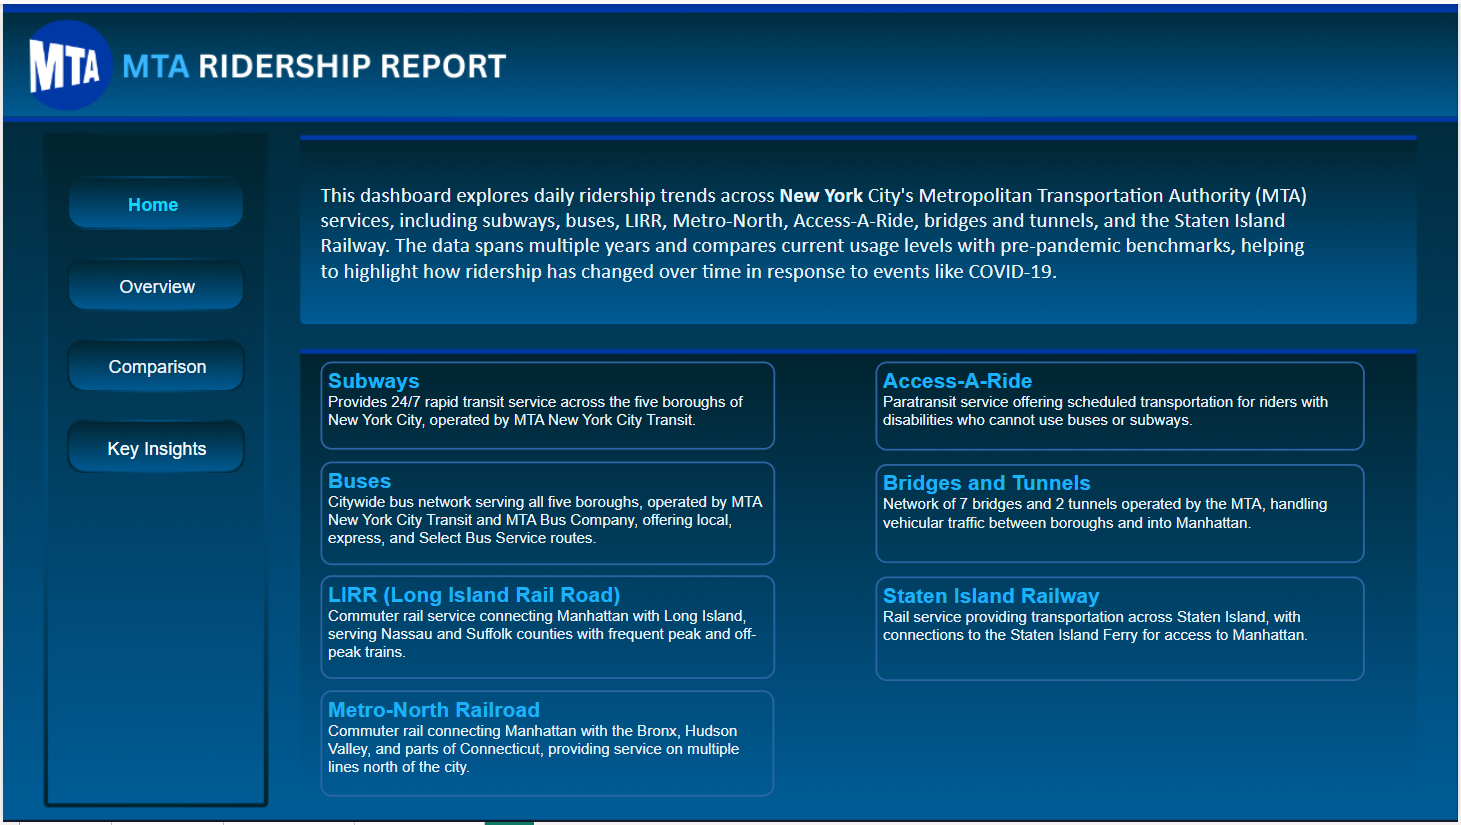

Layout of this report page (visuals, bound fields, positions):
{"tool":"powerbi","page":{"name":"Home","canvas":[1280,720],"ordinal":0},"visuals":[{"type":"actionButton","box":[82.8,156.3,99.5,40],"z":0},{"type":"actionButton","box":[67.9,229.8,134.9,39.1],"z":1000},{"type":"actionButton","box":[61.4,298.6,148.9,40],"z":2000},{"type":"textbox","box":[53,0,150,150],"z":3000},{"type":"textbox","box":[279.2,156.2,878.1,118.8],"z":4000},{"type":"textbox","box":[278.9,314.7,400,77.9],"z":5000},{"type":"textbox","box":[278.9,402.1,400,91.6],"z":6000},{"type":"textbox","box":[278.9,503,400,91.6],"z":7000},{"type":"textbox","box":[278.9,603.4,399.5,93.3],"z":8000},{"type":"textbox","box":[767.7,314.6,430.2,78.1],"z":9000},{"type":"textbox","box":[767.7,404.2,430.2,87.5],"z":10000},{"type":"textbox","box":[767.7,503.1,430.2,91.7],"z":11000},{"type":"actionButton","box":[68.4,371.6,134.7,38.9],"z":12000}]}

Visuals, with their boxes in screenshot pixels (x1, y1, x2, y2), scaled from the page's 1280x720 canvas onto the 1461x825 screenshot:
actionButton: (95, 179, 208, 225)
actionButton: (78, 263, 231, 308)
actionButton: (70, 342, 240, 388)
textbox: (60, 0, 232, 172)
textbox: (319, 179, 1321, 315)
textbox: (318, 361, 775, 450)
textbox: (318, 461, 775, 566)
textbox: (318, 576, 775, 681)
textbox: (318, 691, 774, 798)
textbox: (876, 360, 1367, 450)
textbox: (876, 463, 1367, 563)
textbox: (876, 576, 1367, 682)
actionButton: (78, 426, 232, 470)
